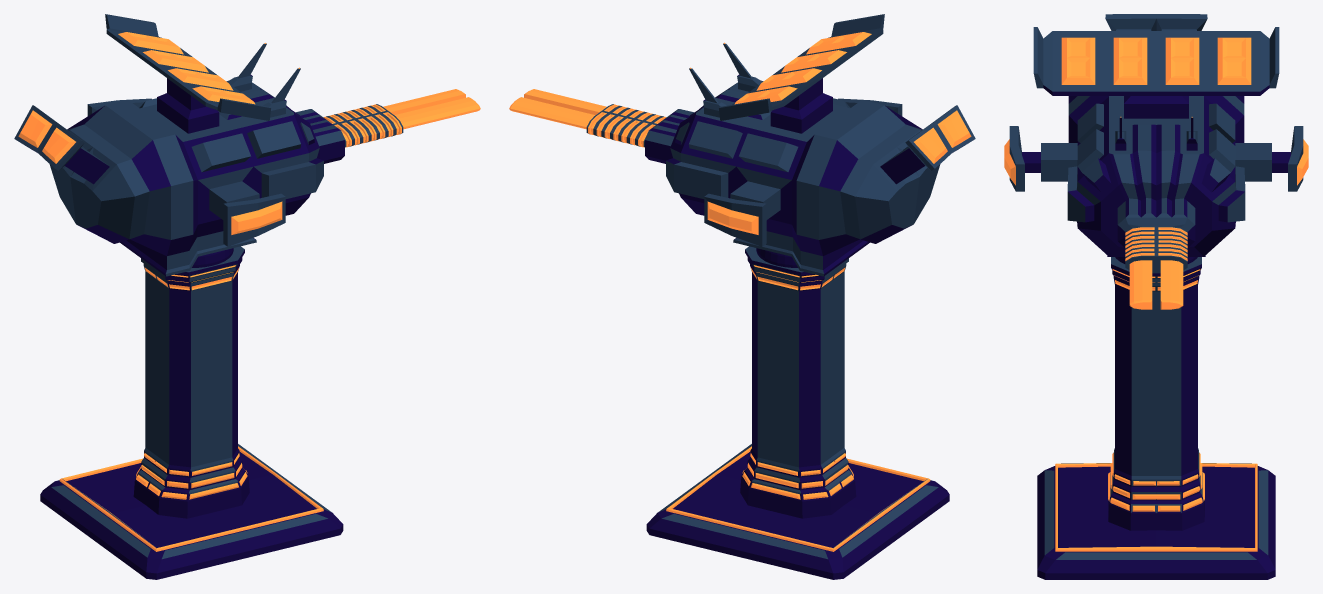
The model's file is lazerTower3.fbx.
The picture shows the model from 3 angles, left to right: view 1: azimuth 30°, elevation 25°; view 2: azimuth 150°, elevation 25°; view 3: azimuth 270°, elevation 25°; orthographic projection. The views are drawn at different scales.
Visible parts, largest first — view 1: Cube.001, pillar, base; view 2: Cube.001, pillar, base; view 3: Cube.001, base, pillar.
Boxes of the visible parts, left/top/right/bottom form: Cube.001: left=14, top=14, right=480, bottom=276; pillar: left=133, top=246, right=249, bottom=518; base: left=40, top=444, right=343, bottom=579; Cube.001: left=509, top=14, right=975, bottom=276; pillar: left=740, top=246, right=856, bottom=518; base: left=646, top=444, right=949, bottom=579; Cube.001: left=1004, top=14, right=1308, bottom=309; base: left=1037, top=463, right=1275, bottom=579; pillar: left=1108, top=257, right=1204, bottom=530.
Size of the model in its own units: 255 by 452 by 441.
